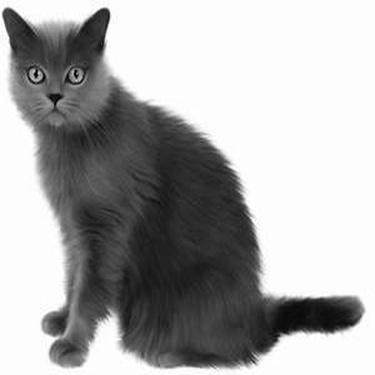cat: (1, 7, 364, 366)
